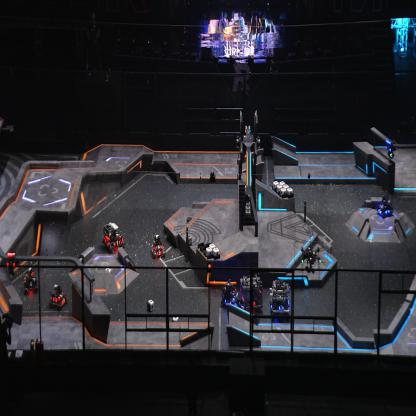car: (238, 274, 263, 314), (268, 278, 290, 318), (102, 222, 126, 252), (220, 280, 242, 311), (48, 283, 68, 310), (22, 267, 39, 296), (376, 194, 394, 219), (150, 234, 166, 259)
